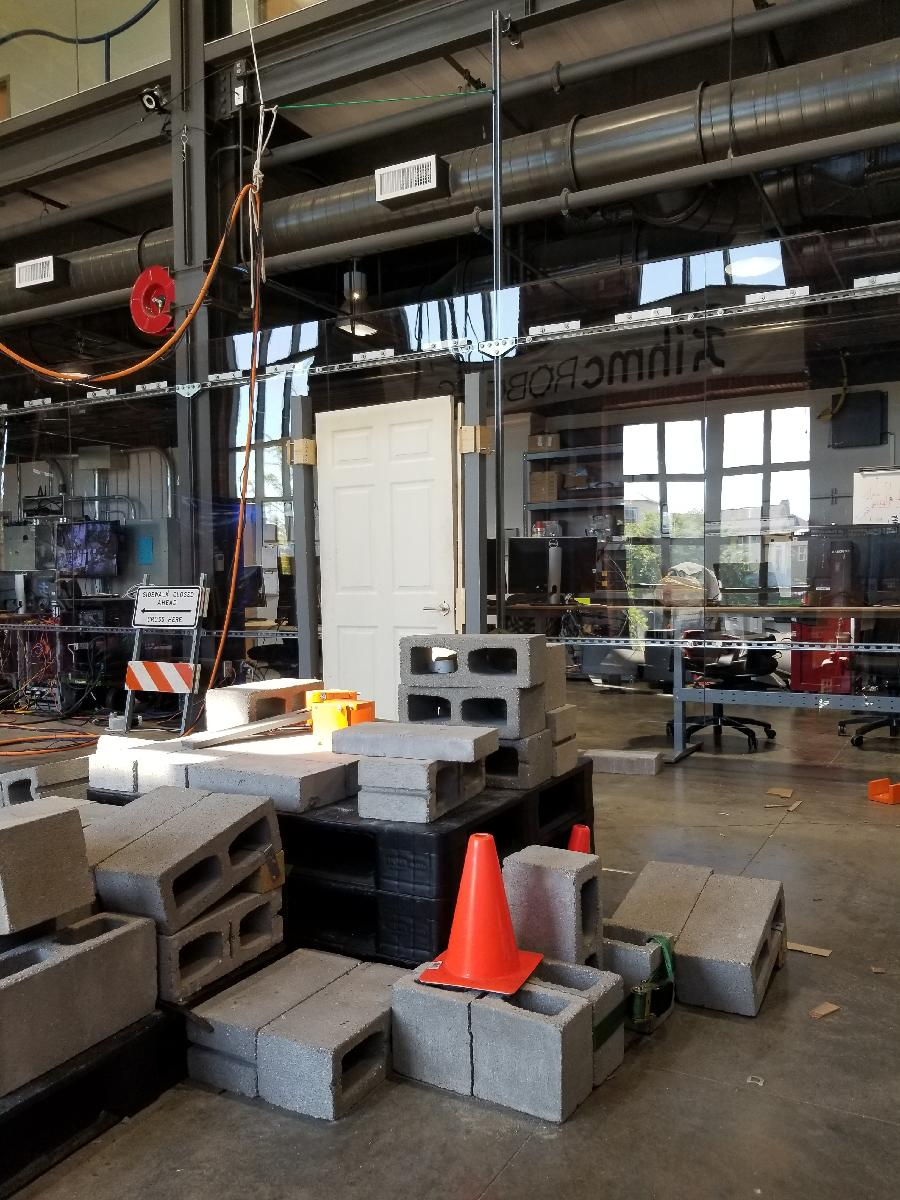door: (309, 394, 466, 757)
doorHandle: (425, 599, 454, 618)
